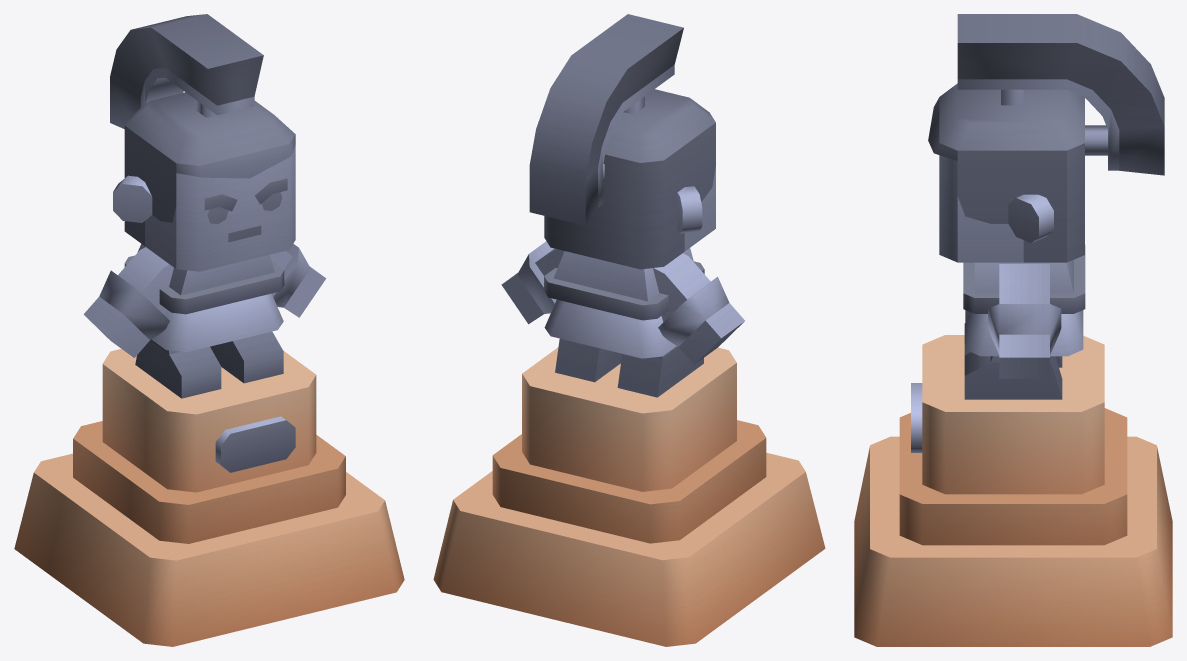
File: statue.obj
The picture shows the model from 3 angles, left to right: view 1: azimuth 30°, elevation 25°; view 2: azimuth 150°, elevation 25°; view 3: azimuth 270°, elevation 25°; orthographic projection. The views are drawn at different scales.
Parts seen in each view (by area): view 1: statue; view 2: statue; view 3: statue.
Part boxes in pixels (x1,y1,x2,y2): statue: (14,14,404,646); statue: (433,14,825,646); statue: (854,14,1172,646).
Size of the model in its own units: 0.7 by 1.34 by 0.7.
1 material, 1 textured.
